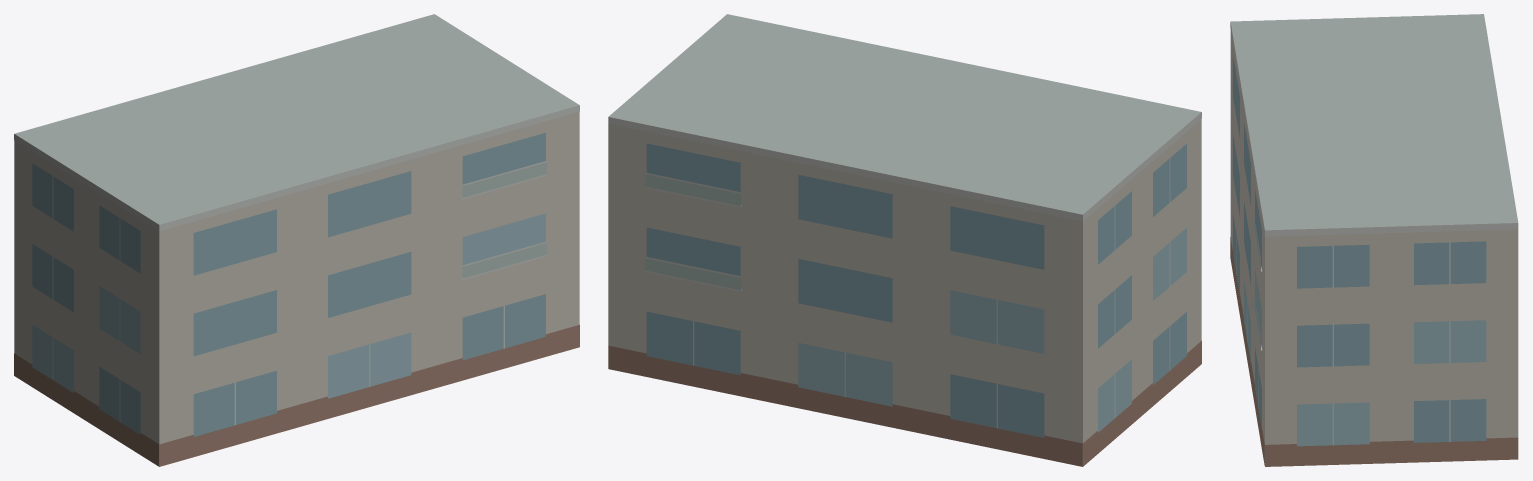
Rendered from survey-upis-32703802.glb.
The picture shows the model from 3 angles, left to right: view 1: azimuth 30°, elevation 25°; view 2: azimuth 150°, elevation 25°; view 3: azimuth 270°, elevation 25°; orthographic projection. The views are drawn at different scales.
Parts seen in each view (by area): view 1: survey-upis-32703802.tmp; view 2: survey-upis-32703802.tmp; view 3: survey-upis-32703802.tmp.
Part boxes in pixels (left/top/right/bottom): survey-upis-32703802.tmp: left=14, top=14, right=579, bottom=466; survey-upis-32703802.tmp: left=608, top=14, right=1201, bottom=466; survey-upis-32703802.tmp: left=1230, top=14, right=1518, bottom=466.
Bounding box in the file's own units: 17.95 × 9.15 × 10.1.
